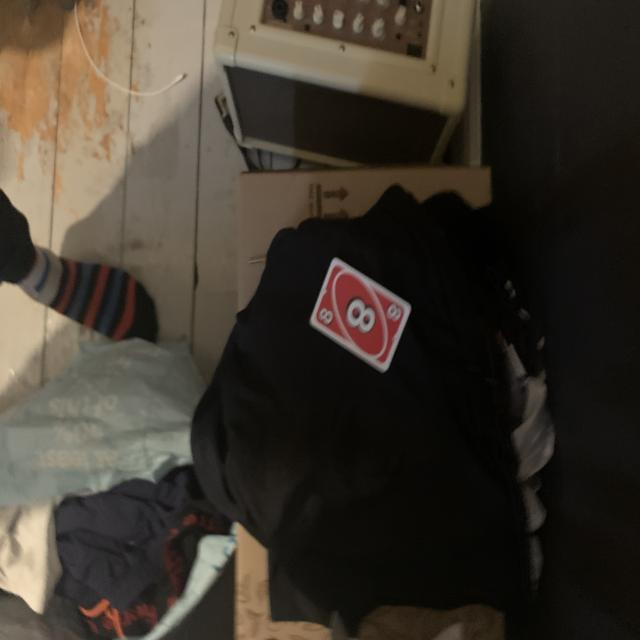lred-8: (316, 303, 337, 329)
